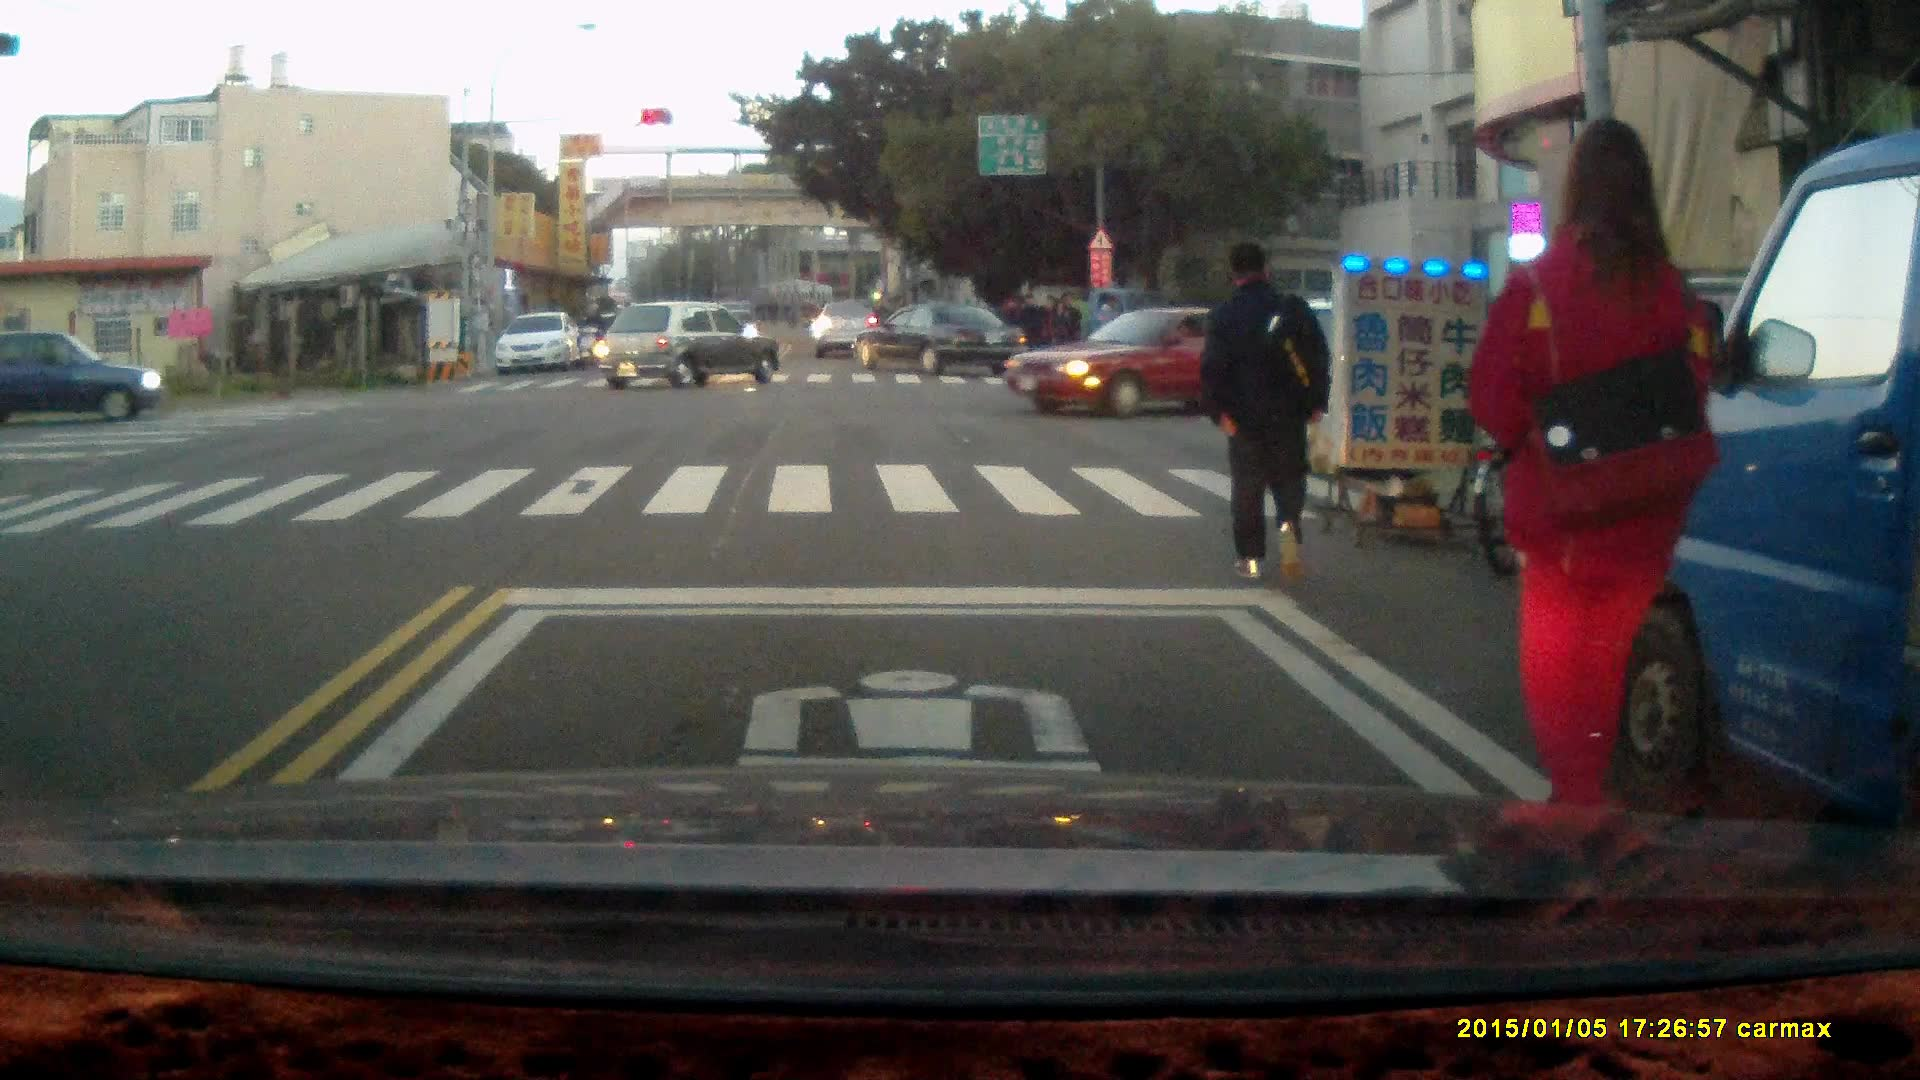pedestrian: (1466, 117, 1732, 839), (1193, 240, 1338, 590), (1011, 292, 1042, 371), (1053, 290, 1082, 368), (1048, 297, 1073, 363)
rider: (575, 302, 607, 369)
vehicle: (1598, 132, 1920, 856), (1233, 296, 1533, 459), (999, 302, 1241, 415), (595, 302, 783, 393), (1, 331, 171, 431), (1002, 284, 1182, 367), (860, 303, 1024, 377), (498, 313, 586, 377), (811, 302, 886, 370)
